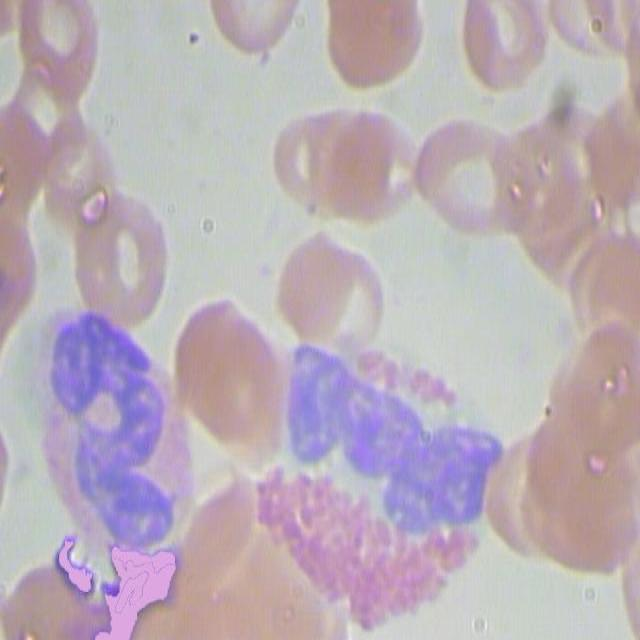RBC: (532, 348, 640, 596), (192, 291, 292, 484), (490, 69, 570, 300), (269, 224, 399, 352), (422, 111, 531, 262), (543, 68, 612, 292), (291, 98, 409, 222), (435, 0, 582, 95), (485, 384, 549, 600), (292, 0, 428, 84), (75, 200, 166, 319), (0, 0, 105, 97), (2, 103, 41, 357), (171, 552, 281, 640), (200, 5, 336, 76), (20, 126, 166, 187), (565, 228, 640, 346), (589, 86, 640, 245), (540, 3, 640, 80), (3, 579, 97, 640), (188, 498, 270, 557), (262, 576, 344, 634), (614, 561, 638, 639)
WBC: (303, 339, 484, 623), (62, 325, 172, 628)
platelets: (541, 69, 585, 131)
